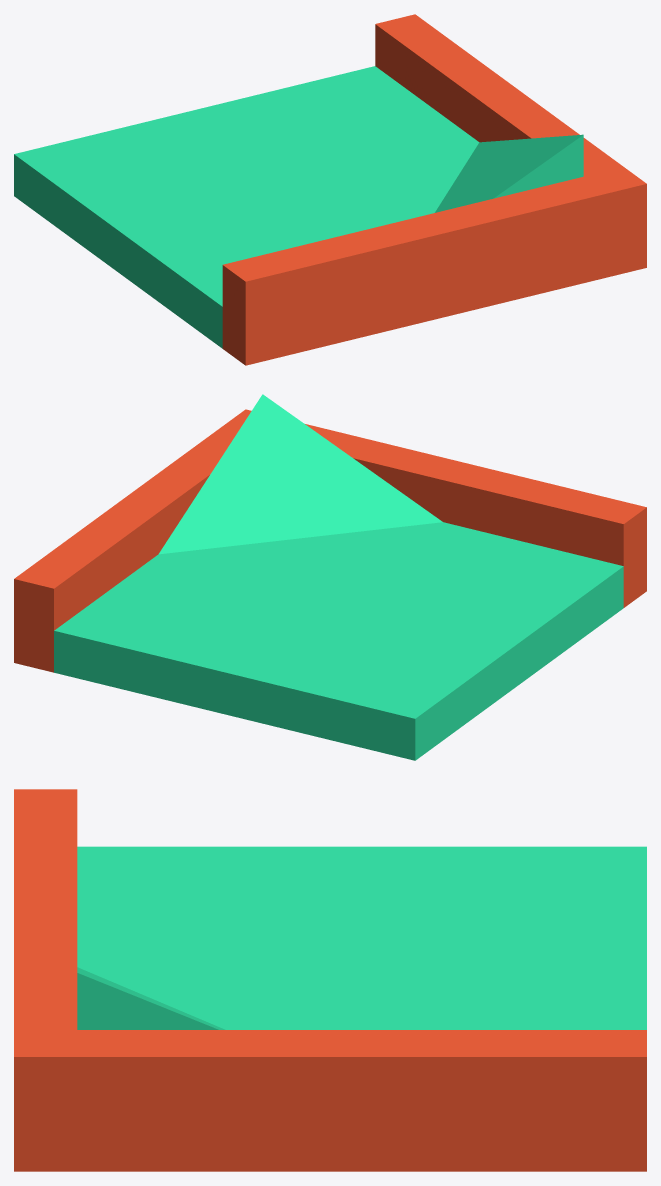
Rendered from track_border_2_side.fbx.
3 views of the same model, one above another, from view 1: azimuth 30°, elevation 25°; view 2: azimuth 150°, elevation 25°; view 3: azimuth 270°, elevation 25° (orthographic). The views are drawn at different scales.
Parts seen in each view (by area): view 1: corner_hill_33; view 2: corner_hill_33; view 3: corner_hill_33.
Part boxes in pixels (x1,y1,x2,y2): corner_hill_33: (14, 14, 646, 365); corner_hill_33: (14, 394, 646, 760); corner_hill_33: (14, 789, 646, 1171).
Size of the model in its own units: 10 by 3 by 10.
